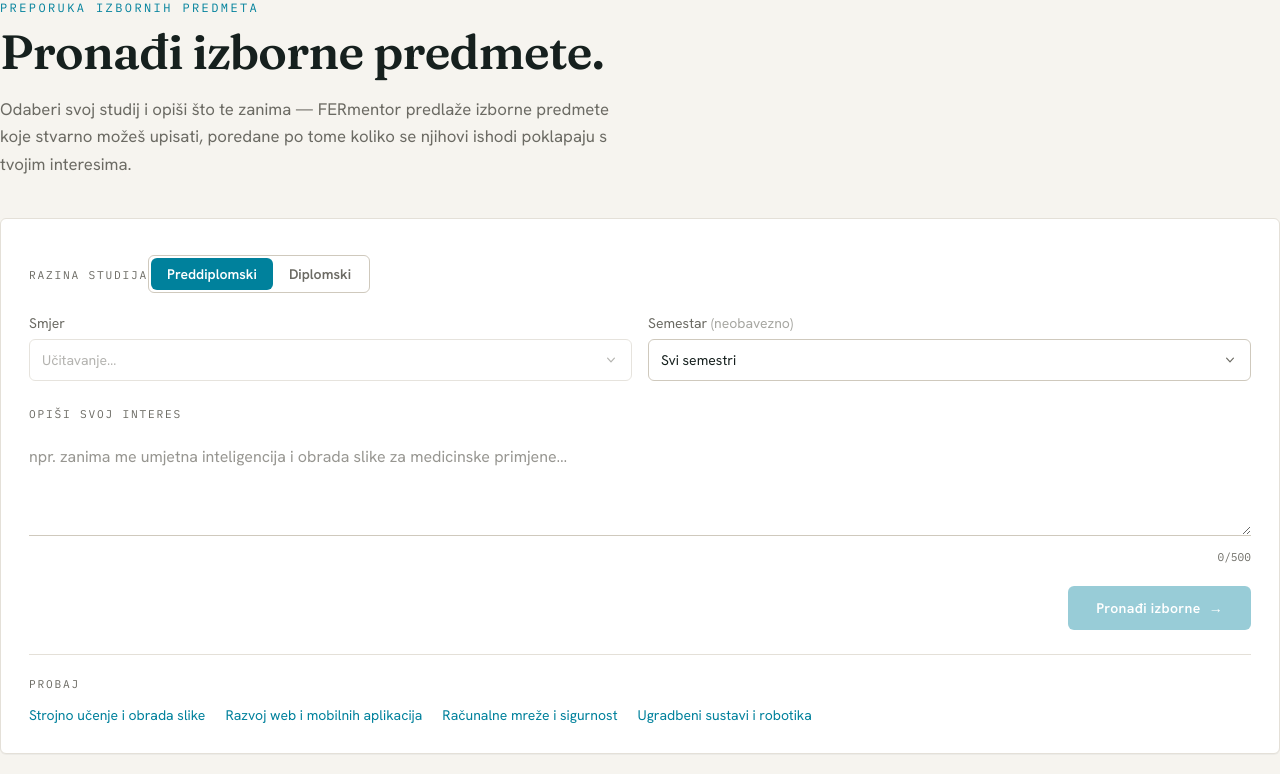
ElectivesPage › search renders ranked courses from the mock backend
Type "strojno učenje i obrada slike" into the text box labelled "Opiši svoj interes". click: (640, 487)
box: [29, 437, 1251, 536]
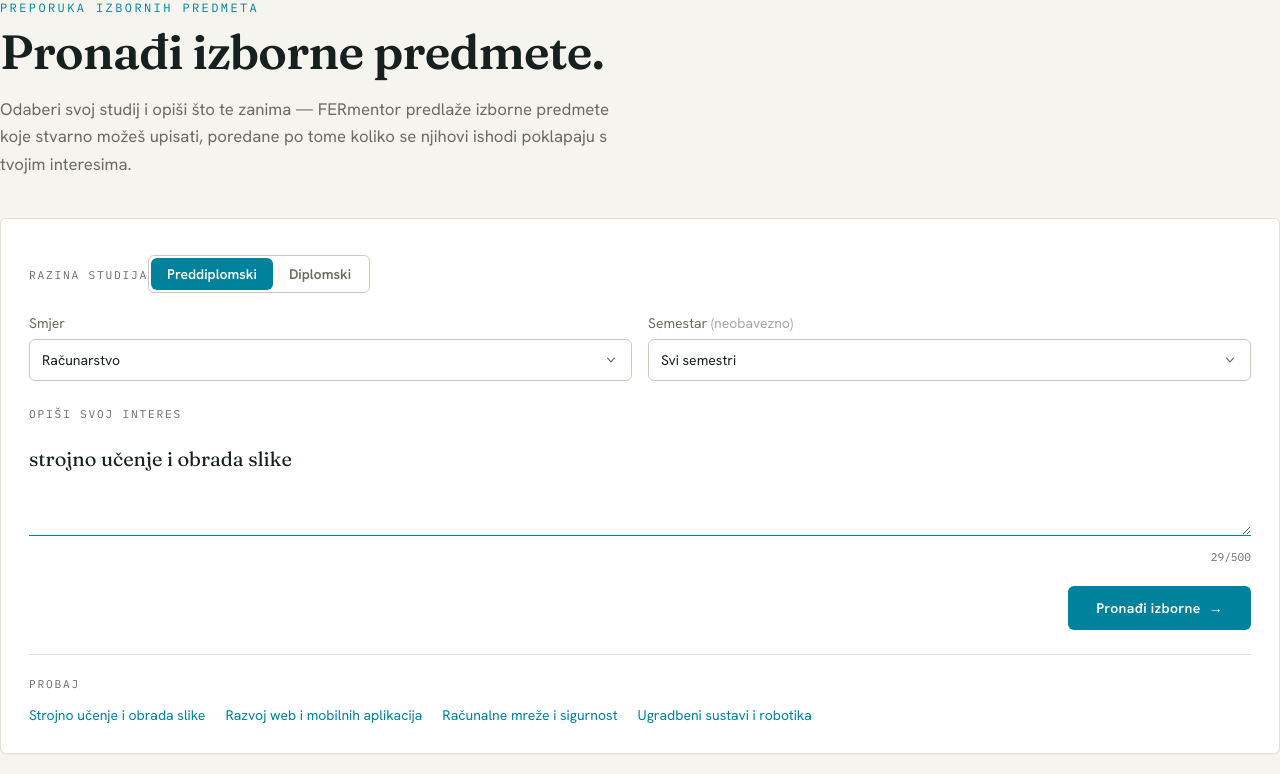
Click the button "Pronađi izborne →". click: (1160, 608)
box: [1068, 586, 1251, 630]
(page scrolled)
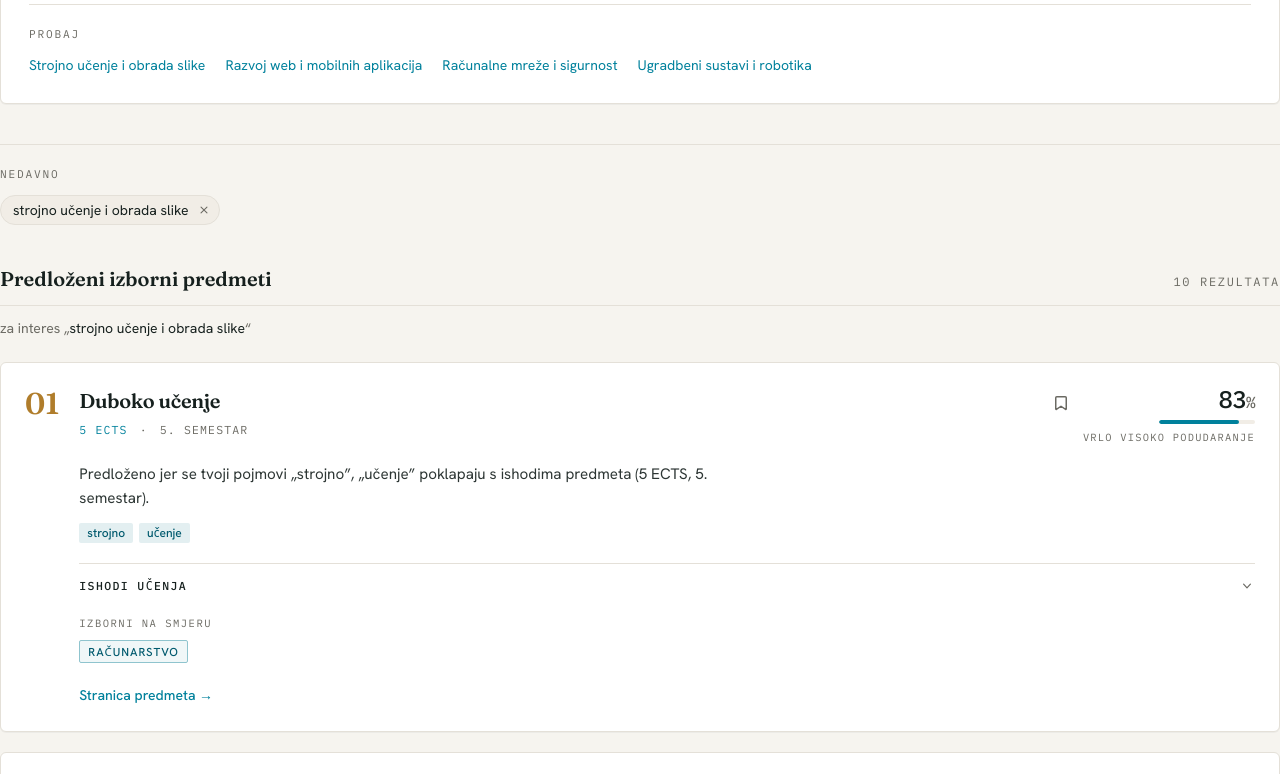
Result: the heading "Predloženi izborni predmeti" is shown at [0, 265, 272, 293]
Result: the link "Duboko učenje" is shown at [79, 388, 220, 413]
